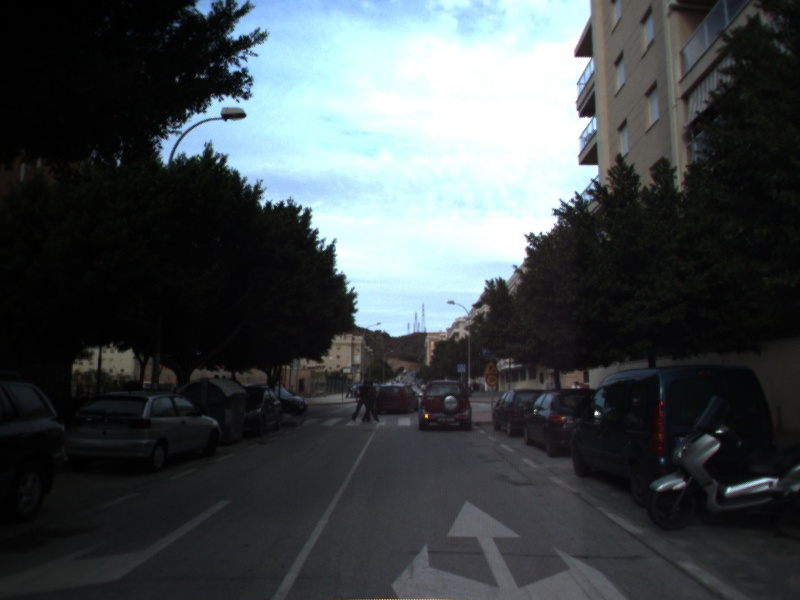STRAIGHT_LEFT_RIGHT: (388, 497, 630, 600)
